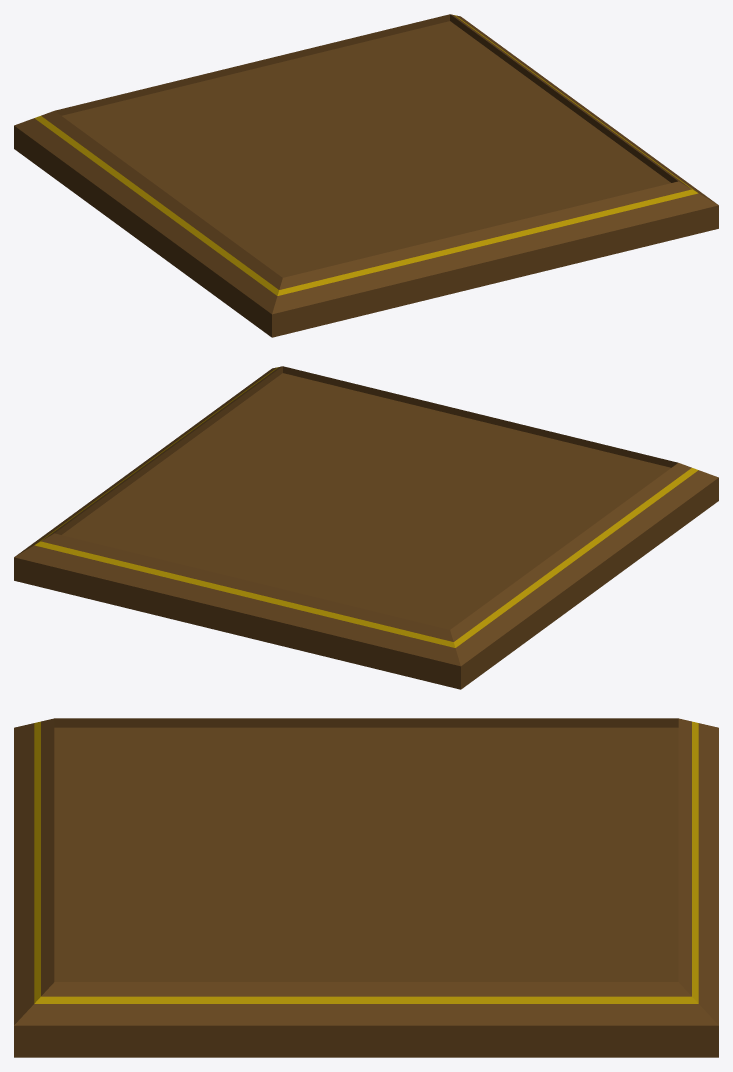
Rendered from board_base.glb.
3 renders of one model, top to bottom at view 1: azimuth 30°, elevation 25°; view 2: azimuth 150°, elevation 25°; view 3: azimuth 270°, elevation 25°, orthographic. The views are drawn at different scales.
Parts seen in each view (by area): view 1: board; view 2: board; view 3: board.
Part boxes in pixels (bbox=[...]): board: bbox=[14, 14, 718, 337]; board: bbox=[14, 366, 718, 689]; board: bbox=[14, 718, 718, 1057].
Size of the model in its own units: 0.5649 by 0.0516 by 0.5649.
1 material, 1 textured.
